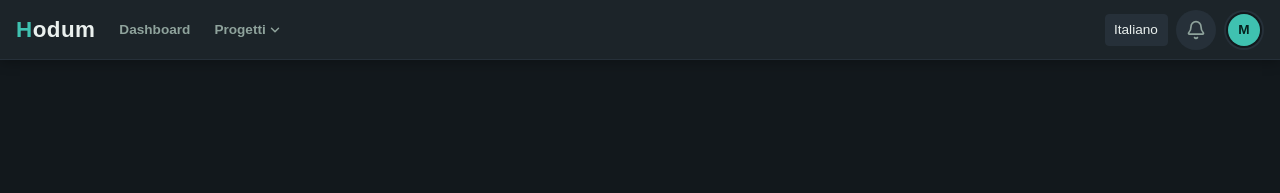
Test: TopbarComponent › shows the last login at the bottom of the account menu for an employee
Expected: the text "Ultimo accesso:" is not shown
What coordinates should you click on to do the following:
click the button named "Menu account"
I would click on:
 (1244, 30)
Its box is [1224,10,1264,50].
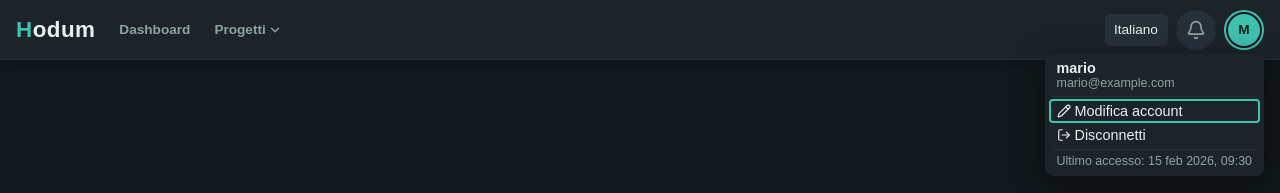
Result: the text "Ultimo accesso: 15 feb 2026, 09:30" is shown at [1048,152,1260,172]
